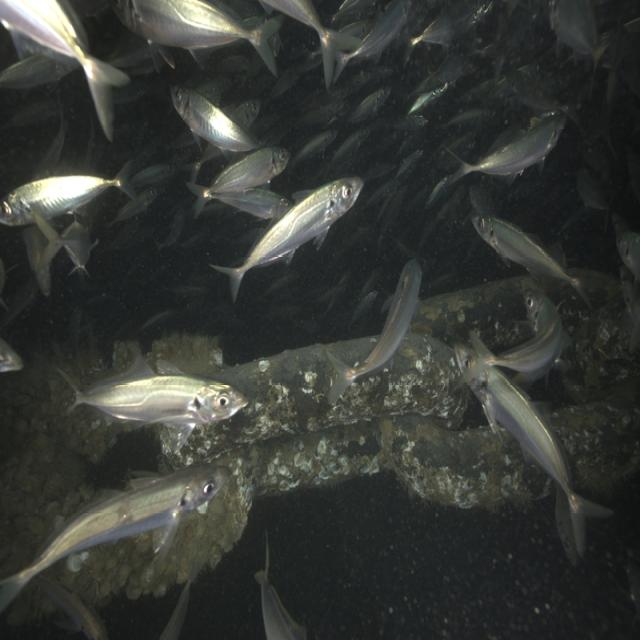ChainLink: (160, 335, 468, 505), (379, 417, 551, 507), (412, 275, 590, 351), (550, 402, 640, 491), (590, 274, 618, 304)
